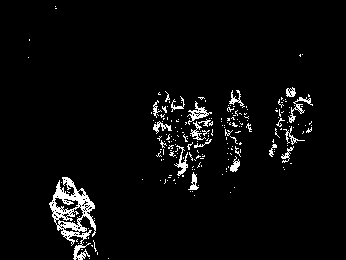person: (49, 176, 98, 259), (220, 89, 252, 173), (187, 97, 214, 191), (281, 97, 313, 163), (269, 86, 294, 158), (169, 95, 186, 177), (152, 90, 168, 159)
